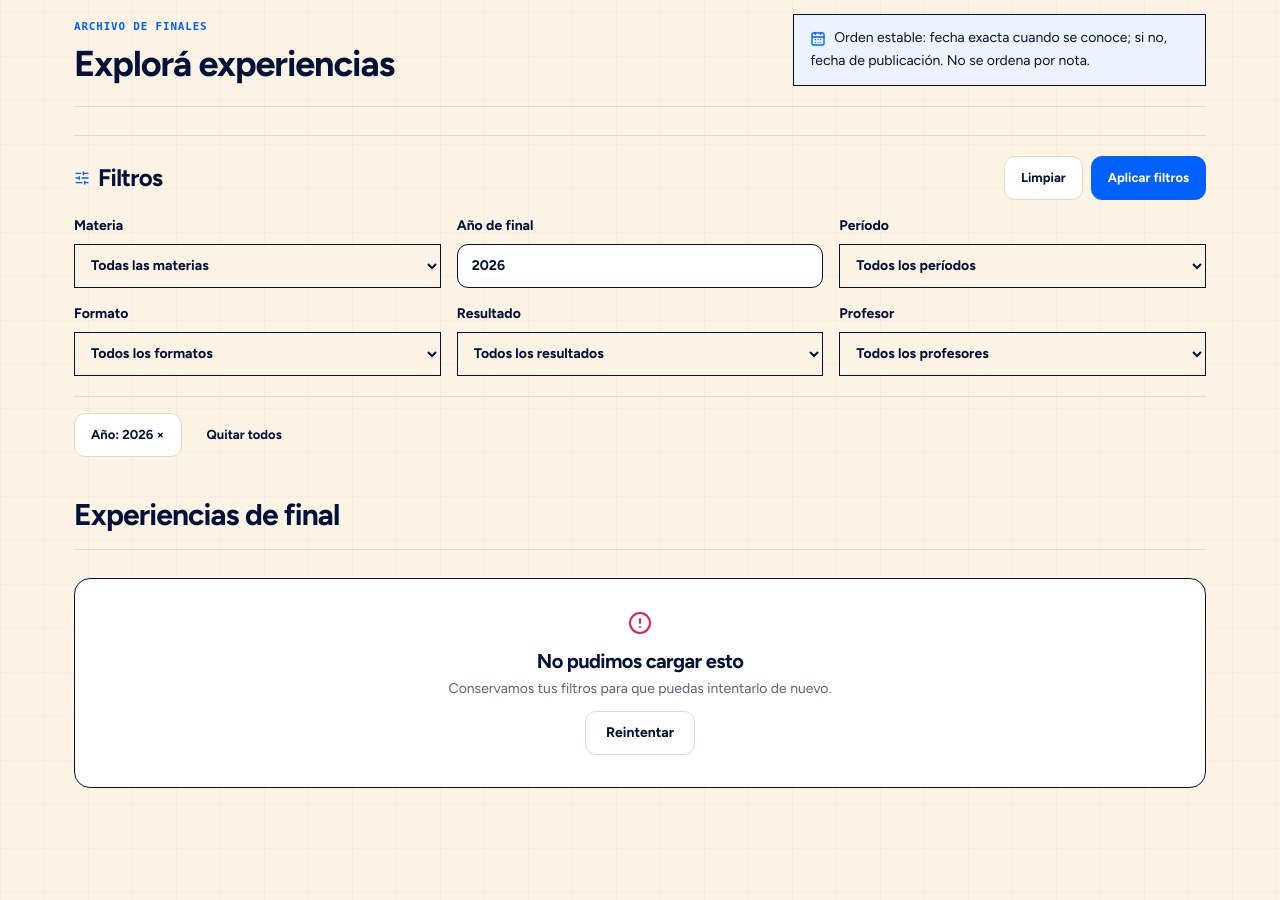
Scenario: ExamExperienceDiscoveryPage › keeps filters on an API failure and retries the same request
(page scrolled)
Expected: the message is shown, [74, 578, 1206, 788]
Click the button "Reintentar". click: (640, 733)
box: [585, 711, 695, 755]
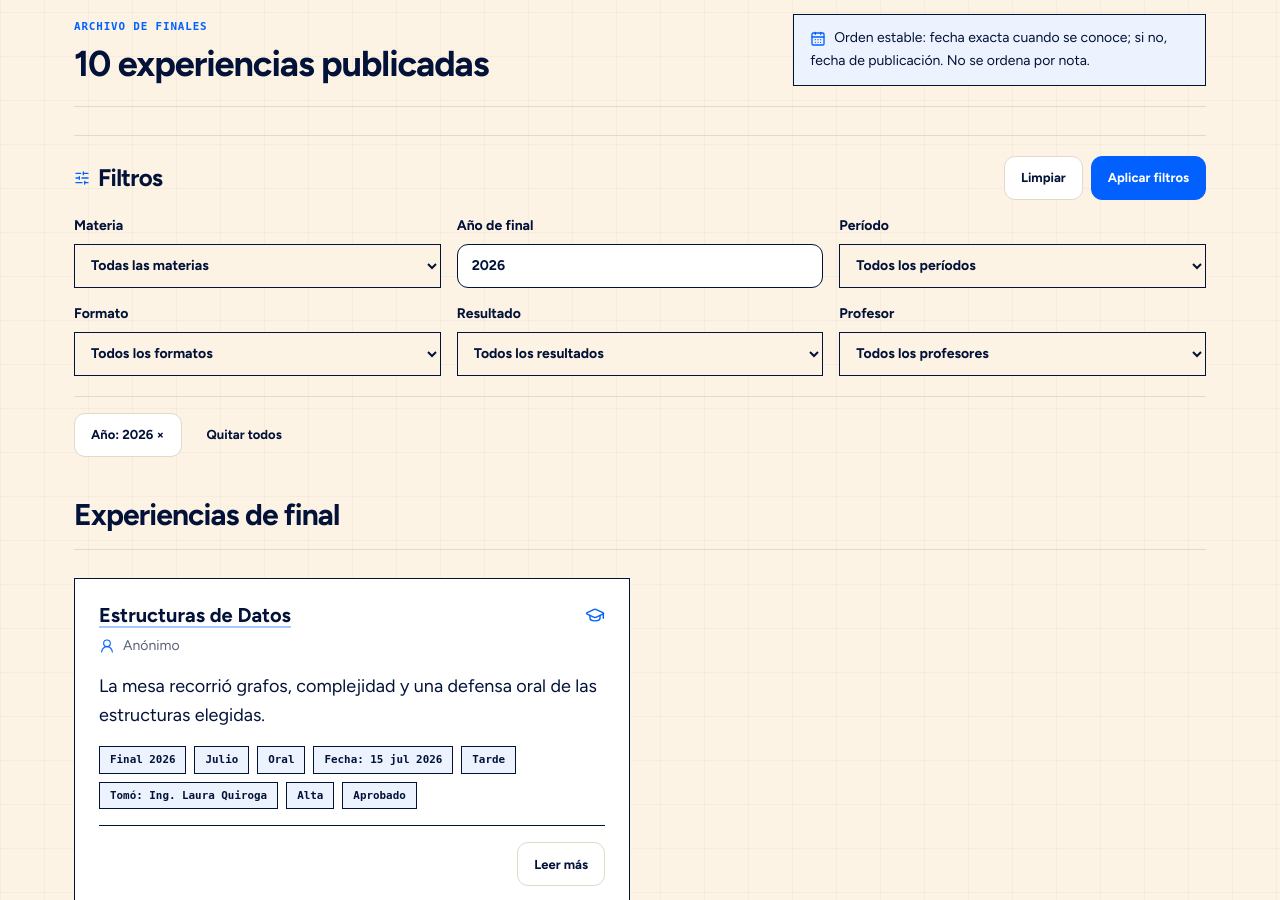
Expected: the link "Estructuras de Datos" is shown, [99, 603, 291, 627]
